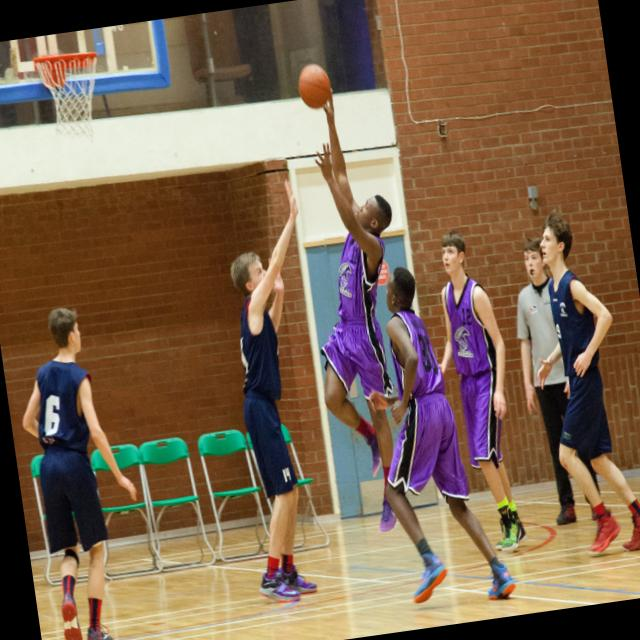Ball: (294, 63, 335, 114)
